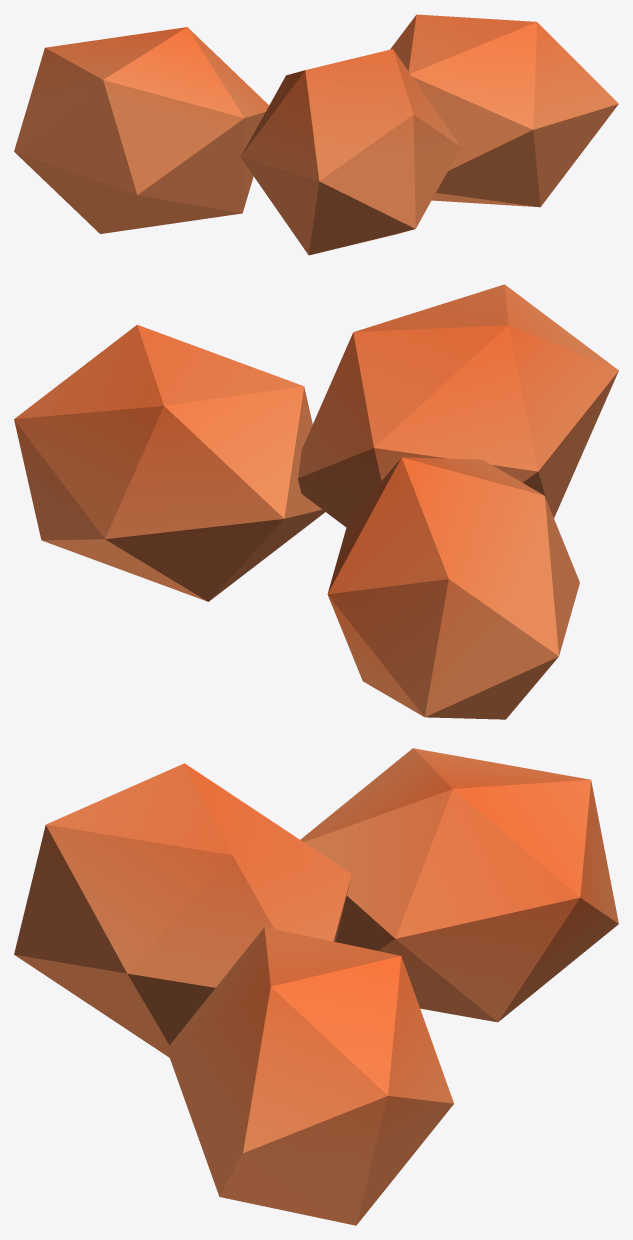
File: food_grapes_small.fbx
3 views of the same model, one above another, from view 1: azimuth 30°, elevation 25°; view 2: azimuth 150°, elevation 25°; view 3: azimuth 270°, elevation 25° (orthographic). The views are drawn at different scales.
Parts seen in each view (by area): view 1: polySurface134; view 2: polySurface134; view 3: polySurface134.
Boxes of the visible parts, box(x1,y1,x2,y2) form: polySurface134: box(14, 14, 618, 255); polySurface134: box(14, 284, 618, 719); polySurface134: box(14, 748, 618, 1225).
Bounding box in the file's own units: 54.17 × 22.59 × 42.88.
Materials: 1 (1 with a texture image).
